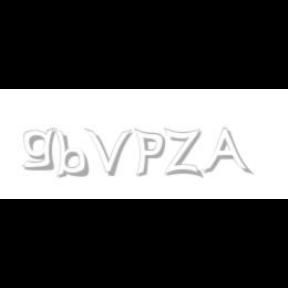A: (202, 128, 250, 176)
P: (134, 128, 166, 178)
V: (85, 128, 133, 176)
Z: (164, 128, 201, 178)
b: (54, 128, 92, 178)
g: (22, 128, 60, 171)
